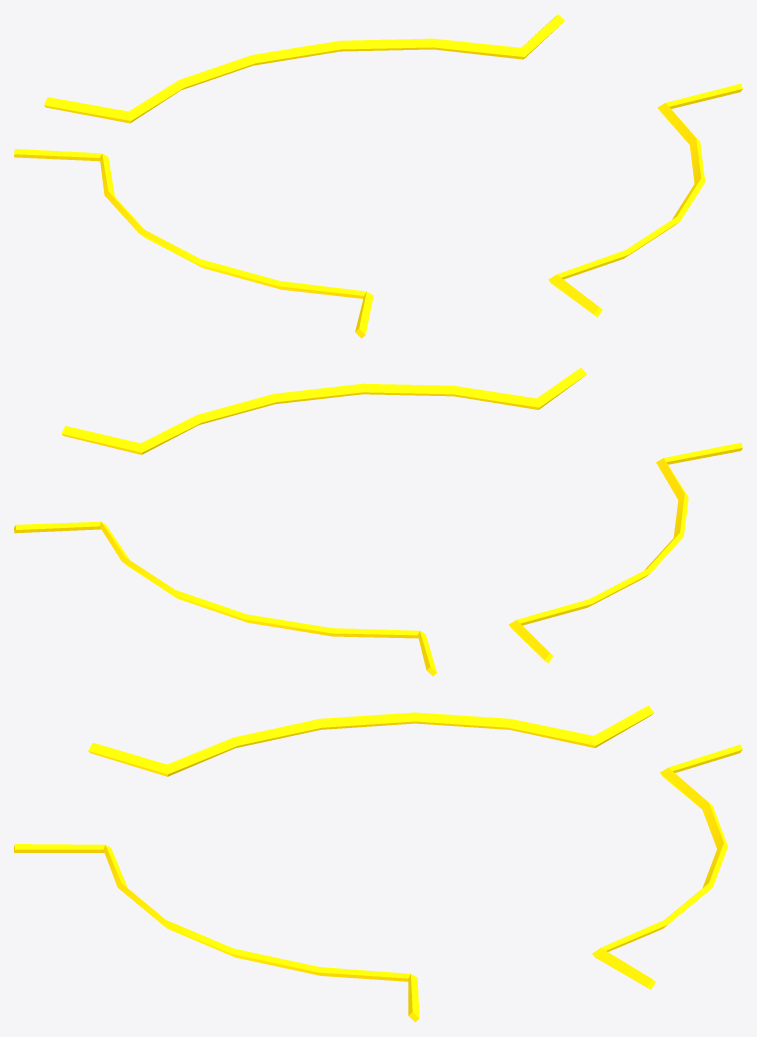
The model's file is light_3.fbx.
3 views of the same model, one above another, from view 1: azimuth 30°, elevation 25°; view 2: azimuth 150°, elevation 25°; view 3: azimuth 270°, elevation 25° (orthographic). The views are drawn at different scales.
Visible parts, largest first — view 1: light_3; view 2: light_3; view 3: light_3.
Boxes of the visible parts, left/top/right/bottom form: light_3: left=14, top=14, right=742, bottom=338; light_3: left=14, top=367, right=742, bottom=676; light_3: left=14, top=705, right=742, bottom=1022.
Bounding box in the file's own units: 16.93 × 0.2562 × 16.93.
